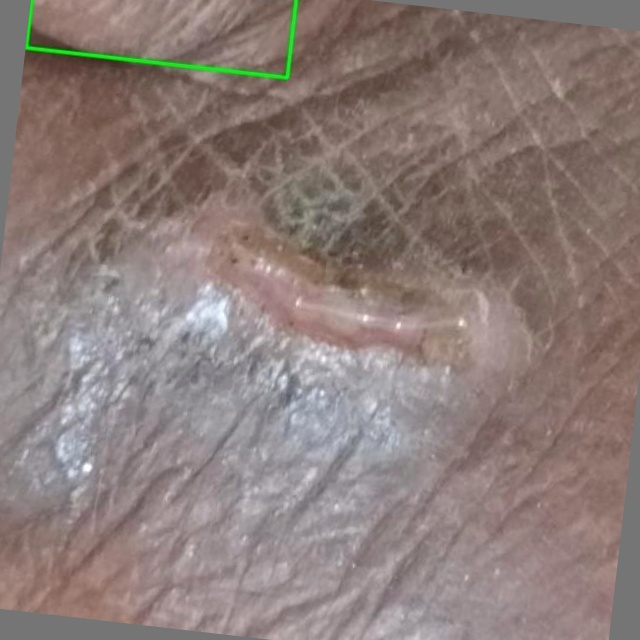Eczema: (26, 0, 297, 78)
